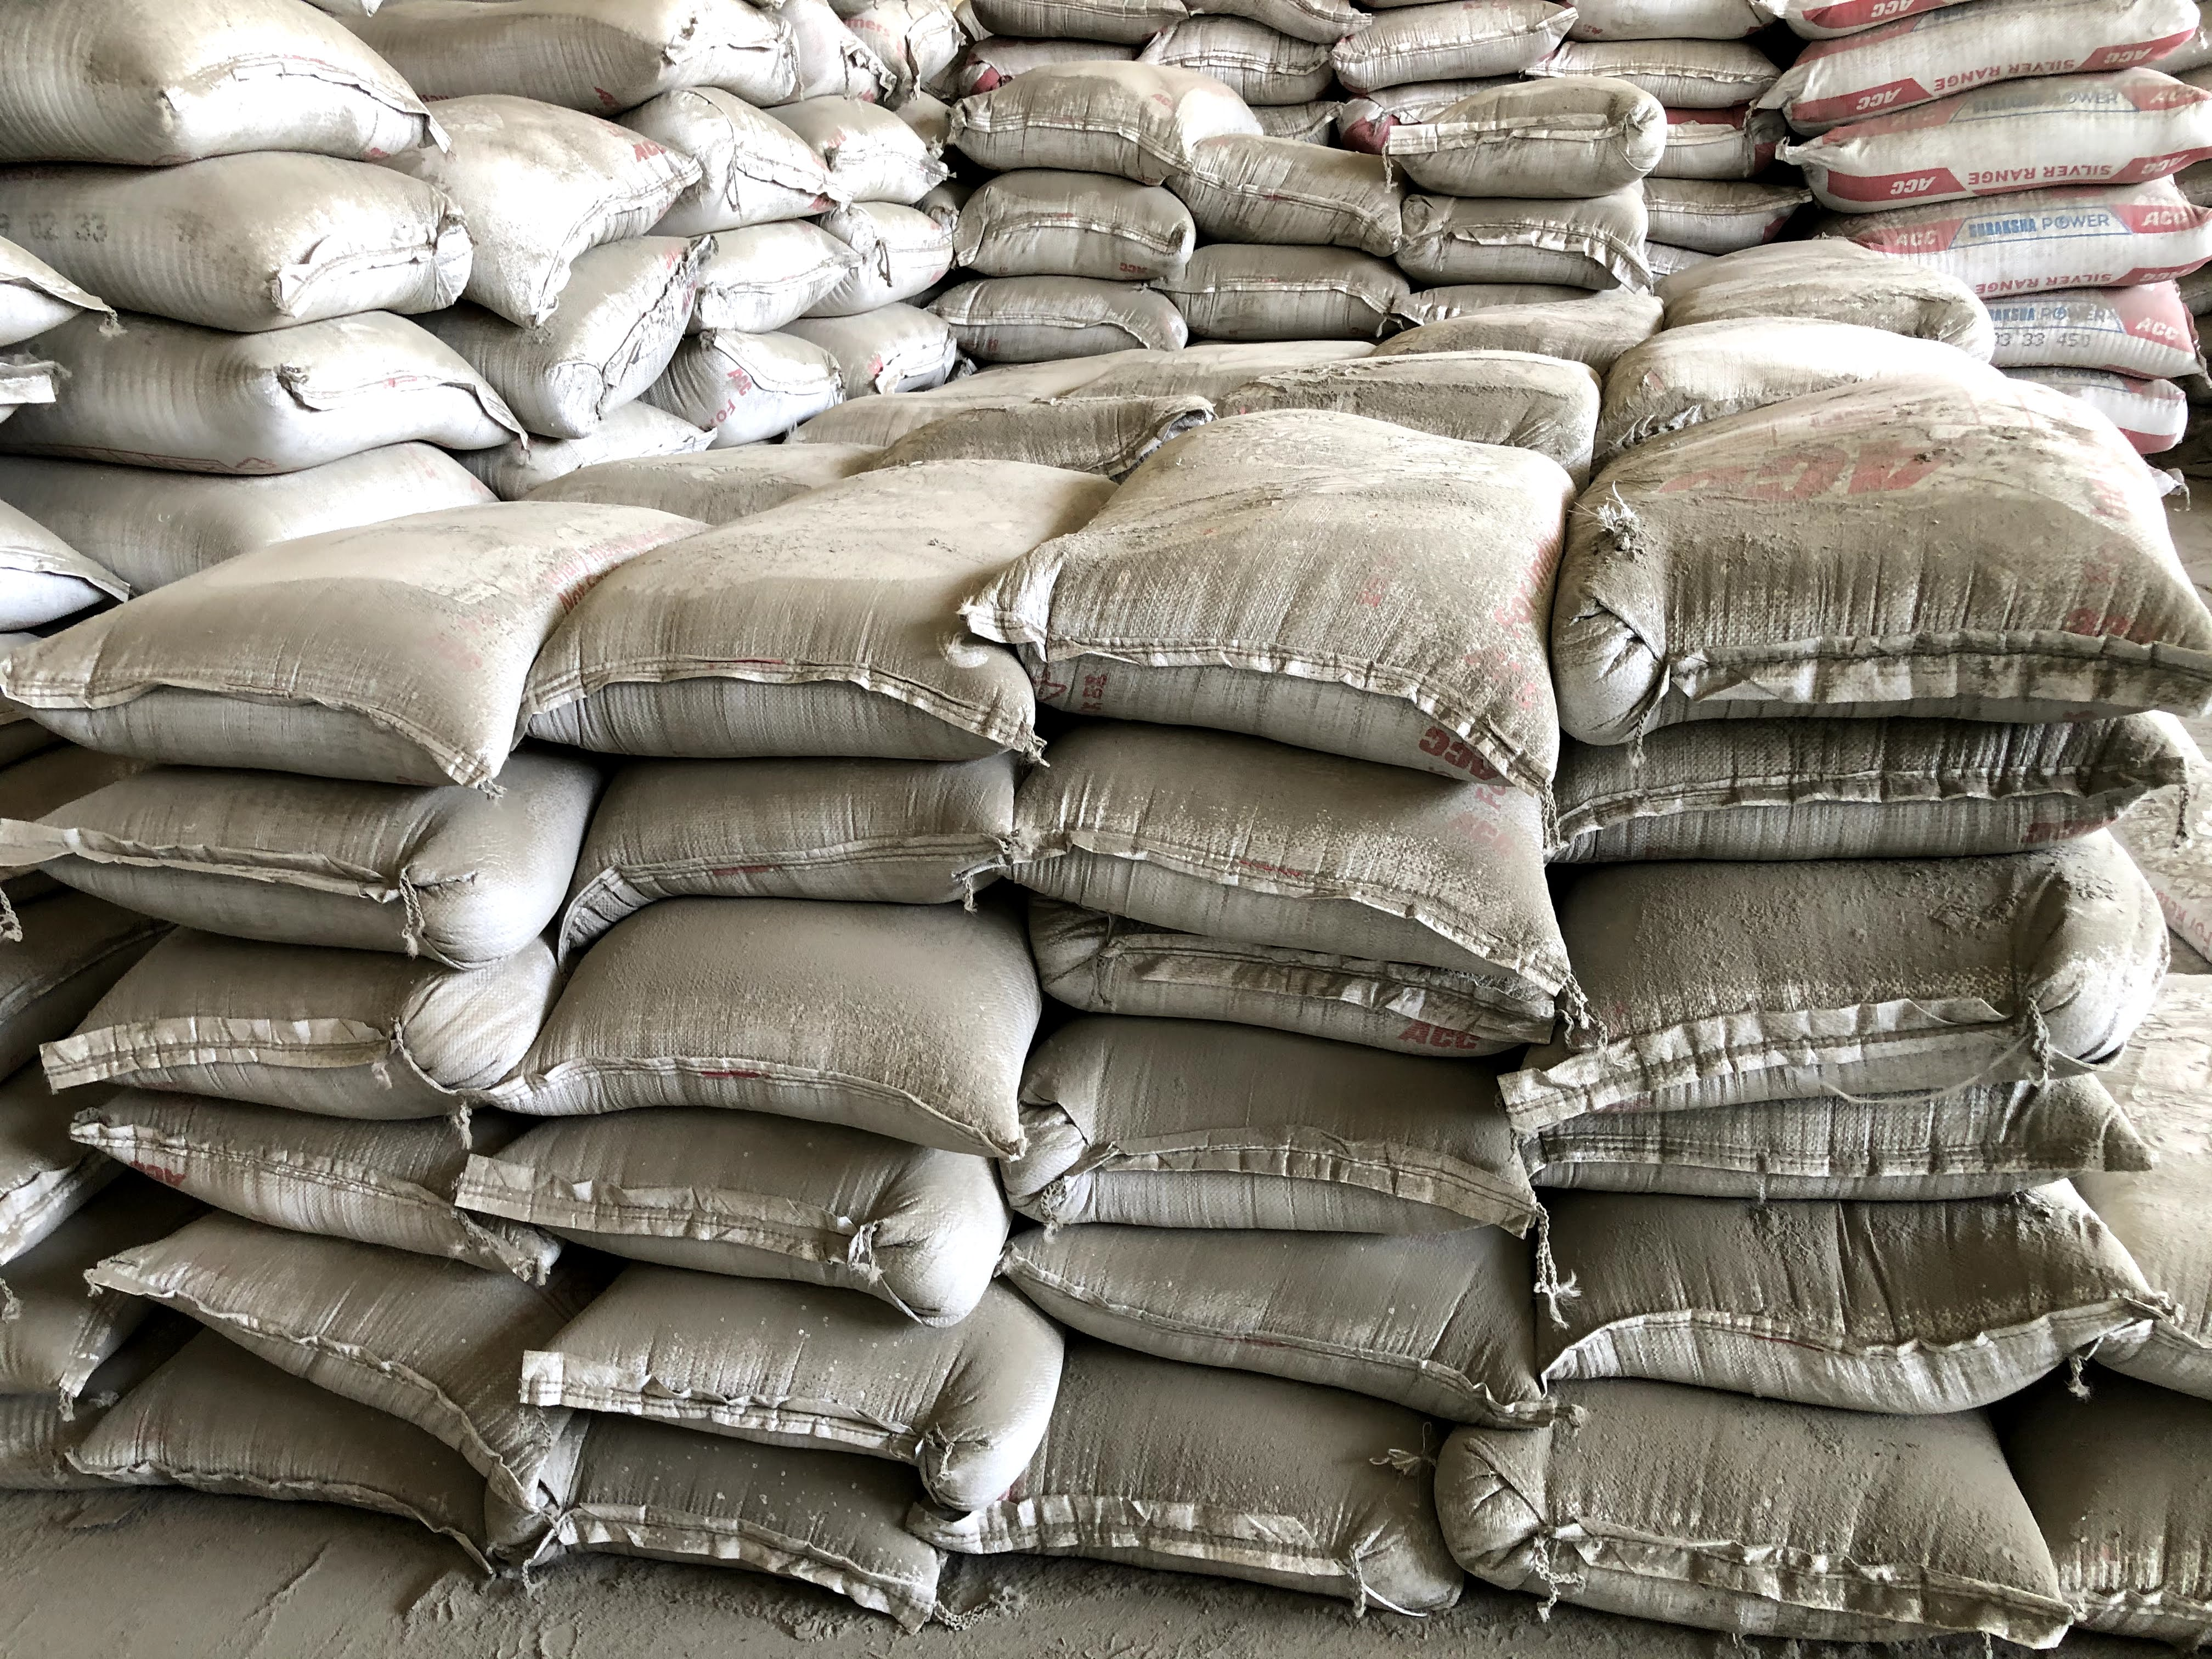cement bag: (1554, 843, 2182, 1086), (1024, 556, 1554, 824), (1571, 1382, 2083, 1640), (512, 554, 1042, 762), (1571, 1185, 2127, 1382), (556, 913, 1028, 1143), (1548, 537, 2212, 692), (495, 1267, 1000, 1467), (122, 1199, 531, 1420), (998, 1417, 1453, 1612), (31, 913, 474, 1114), (1019, 1056, 1501, 1239), (54, 589, 495, 781), (1019, 1239, 1453, 1417), (1585, 723, 2182, 843), (583, 1445, 998, 1612), (495, 1143, 1028, 1267), (31, 781, 495, 913), (1047, 922, 1501, 1056), (1554, 1086, 2127, 1185), (575, 774, 991, 896), (1047, 824, 1554, 922), (78, 1114, 474, 1215), (92, 1420, 531, 1511)
